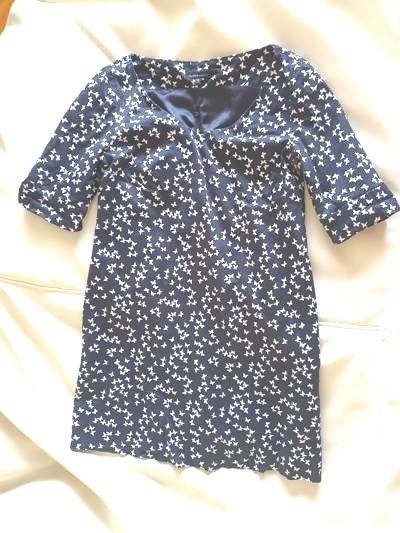Dress: (8, 32, 398, 498)
